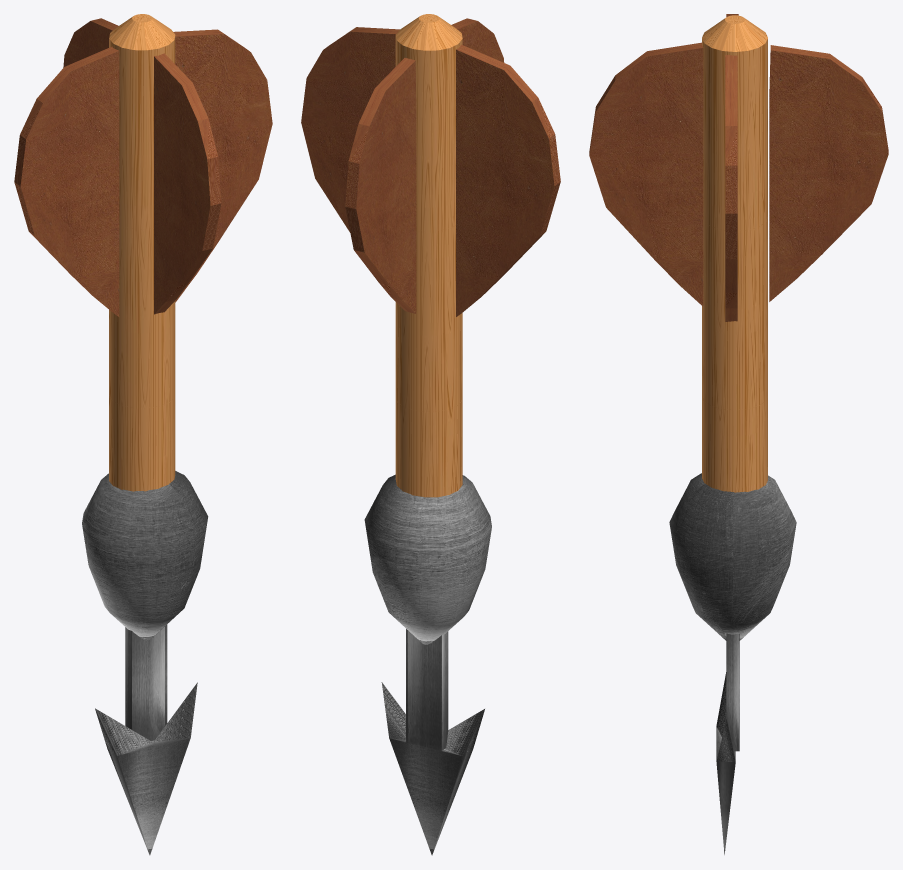
The model's file is Dardos (1).fbx.
3 renders of one model, left to right at view 1: azimuth 30°, elevation 25°; view 2: azimuth 150°, elevation 25°; view 3: azimuth 270°, elevation 25°, orthographic.
Parts seen in each view (by area): view 1: Cylinder002, Box002, Cylinder001, Box003, Box005, Pyramid001, Box001, Box004; view 2: Cylinder002, Box002, Cylinder001, Box004, Box005, Pyramid001, Box001, Box003; view 3: Cylinder002, Box004, Box003, Cylinder001, Box005, Pyramid001, Box001.
Boxes of the visible parts, left/top/right/bottom form: Cylinder002: left=109, top=14, right=175, bottom=491; Box002: left=14, top=46, right=119, bottom=316; Cylinder001: left=82, top=471, right=208, bottom=640; Box003: left=154, top=53, right=221, bottom=314; Box005: left=173, top=29, right=272, bottom=302; Pyramid001: left=95, top=682, right=197, bottom=855; Box001: left=125, top=624, right=167, bottom=740; Box004: left=63, top=18, right=118, bottom=67; Cylinder002: left=395, top=14, right=462, bottom=497; Box002: left=456, top=44, right=560, bottom=316; Cylinder001: left=364, top=474, right=491, bottom=644; Box004: left=345, top=58, right=416, bottom=313; Box005: left=301, top=27, right=399, bottom=232; Pyramid001: left=381, top=682, right=484, bottom=855; Box001: left=406, top=629, right=448, bottom=750; Box003: left=451, top=18, right=504, bottom=62; Cylinder002: left=702, top=15, right=767, bottom=492; Box004: left=769, top=45, right=888, bottom=301; Box003: left=589, top=42, right=703, bottom=306; Cylinder001: left=669, top=473, right=796, bottom=640; Box005: left=725, top=55, right=737, bottom=321; Pyramid001: left=716, top=672, right=735, bottom=854; Box001: left=726, top=633, right=739, bottom=751.
Bounding box in the file's own units: 8.5 × 26.94 × 8.74.
